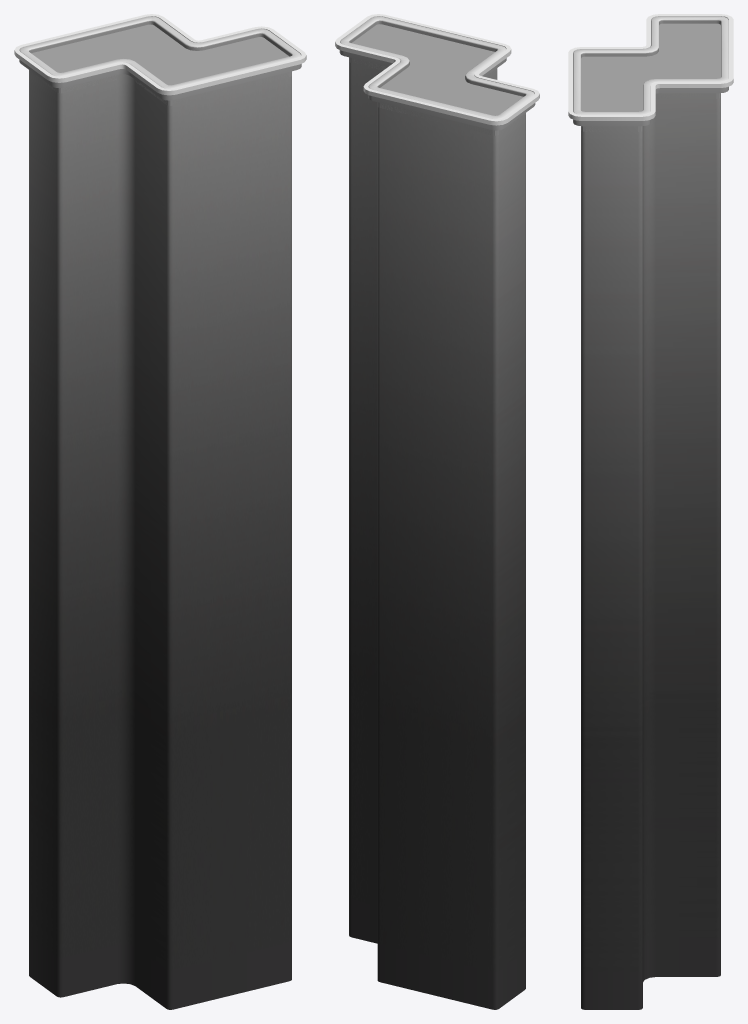
Rendered from BLOCK_3D_Z2.fbx.
3 renders of one model, left to right at view 1: azimuth 30°, elevation 25°; view 2: azimuth 150°, elevation 25°; view 3: azimuth 270°, elevation 25°, orthographic. The views are drawn at different scales.
Parts seen in each view (by area): view 1: Z_1, Z_1.001, OUTLINE.001; view 2: Z_1, Z_1.001, OUTLINE.001; view 3: Z_1, Z_1.001, OUTLINE.001.
Boxes of the visible parts, box(x1,y1,x2,y2) form: Z_1: box(19, 16, 301, 1009); Z_1.001: box(29, 24, 291, 105); OUTLINE.001: box(14, 14, 306, 95); Z_1: box(339, 16, 535, 1009); Z_1.001: box(349, 24, 525, 135); OUTLINE.001: box(335, 14, 539, 125); Z_1: box(573, 16, 728, 1009); Z_1.001: box(581, 23, 720, 131); OUTLINE.001: box(568, 14, 733, 120).
Bounding box in the file's own units: 312 × 1270 × 212.
